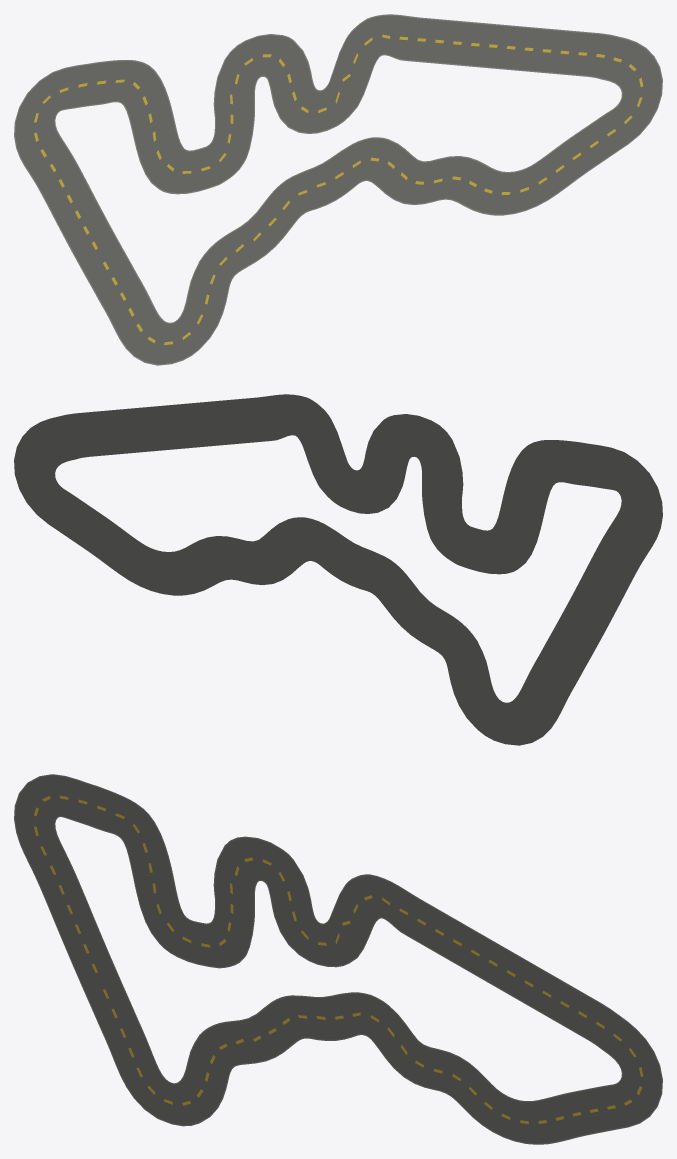
The model's file is track.obj.
3 views of the same model, one above another, from view 1: azimuth 30°, elevation 25°; view 2: azimuth 150°, elevation 25°; view 3: azimuth 330°, elevation 25° (orthographic).
Bounding box in the file's own units: 22.48 × 10.67 × 0.002.
